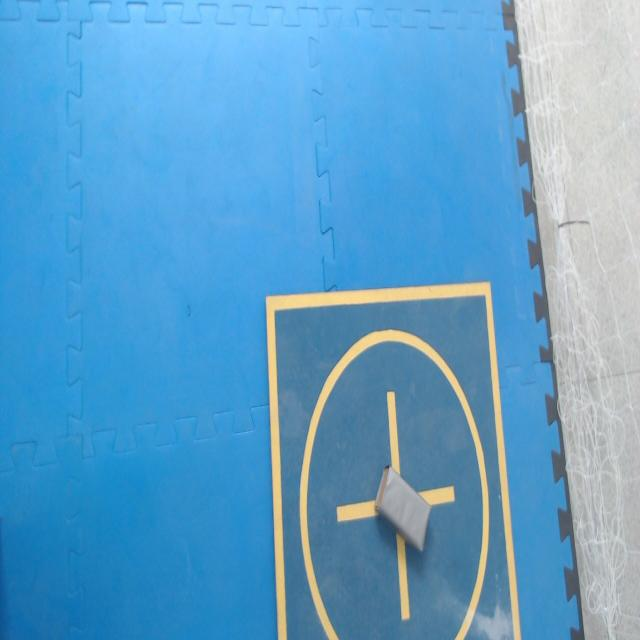lipo: (374, 466, 430, 550)
